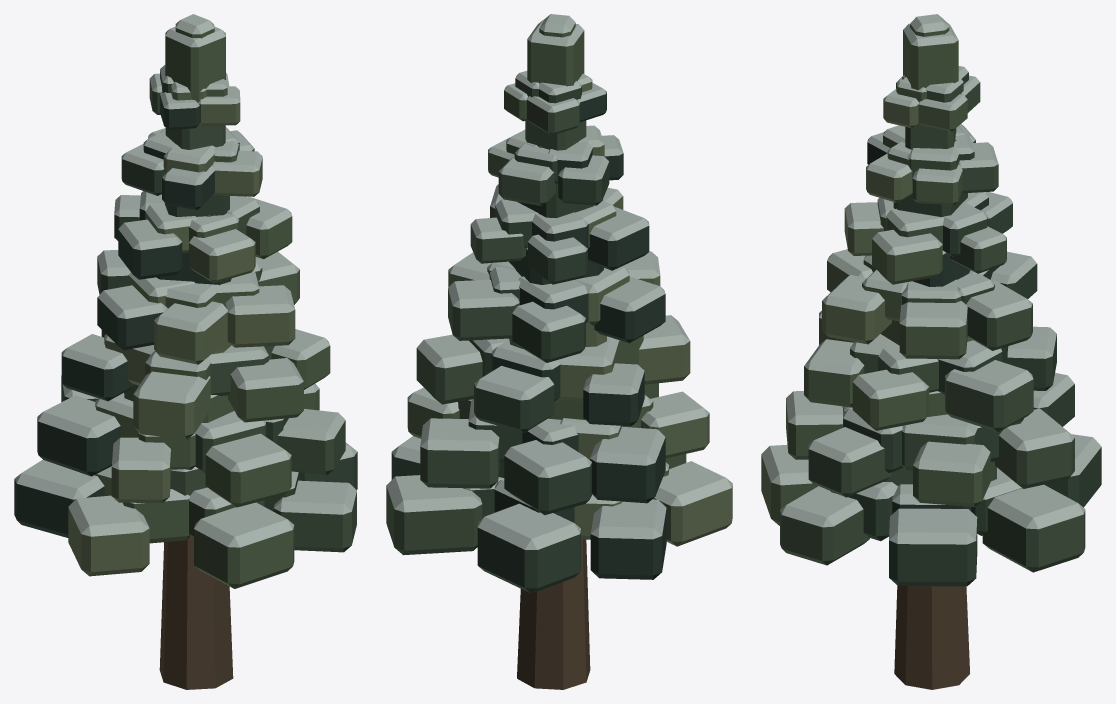
Rendered from pine_ancient_winter_2.glb.
3 renders of one model, left to right at view 1: azimuth 30°, elevation 25°; view 2: azimuth 150°, elevation 25°; view 3: azimuth 270°, elevation 25°, orthographic.
Parts seen in each view (by area): view 1: pine_ancient_winter_2; view 2: pine_ancient_winter_2; view 3: pine_ancient_winter_2.
Boxes of the visible parts, <box> form: pine_ancient_winter_2: <box>14,14,357,689</box>; pine_ancient_winter_2: <box>386,14,732,689</box>; pine_ancient_winter_2: <box>761,14,1101,689</box>.
Bounding box in the file's own units: 12.57 × 27 × 12.75.
